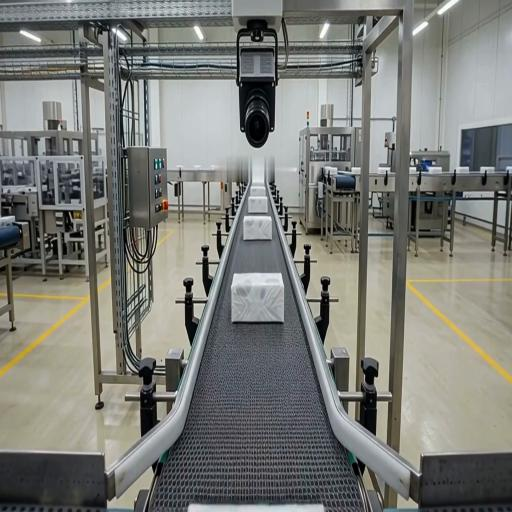good: (231, 272, 285, 323), (243, 215, 273, 241), (248, 196, 268, 214), (249, 186, 266, 196)
